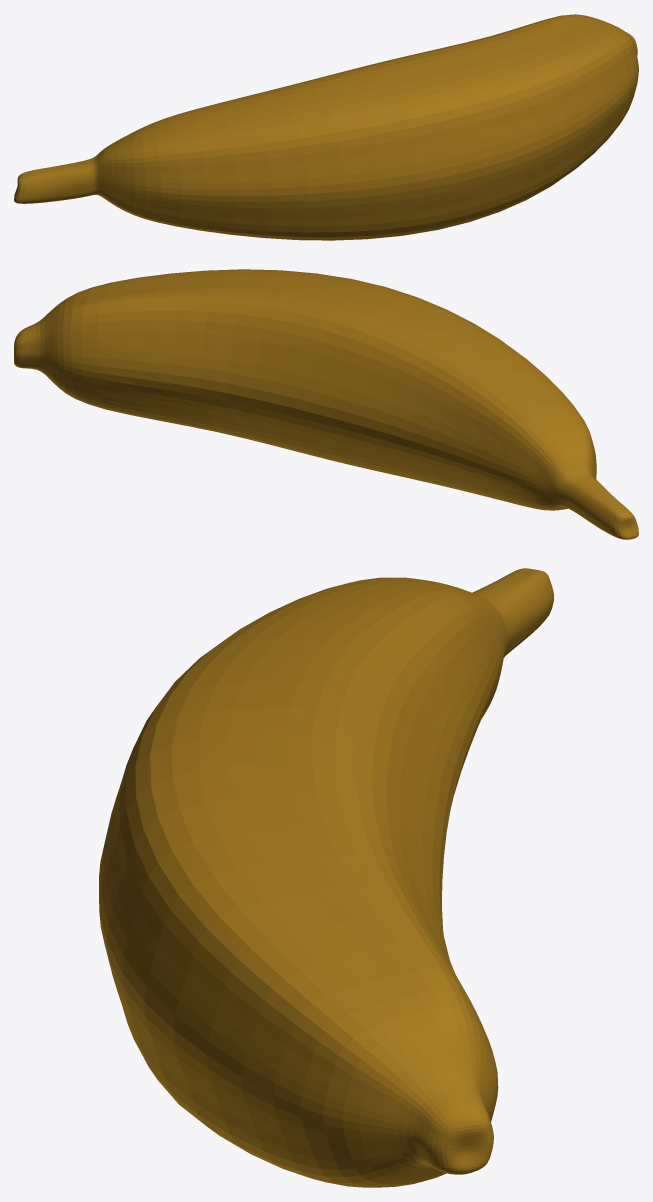
The model's file is Banana.obj.
The picture shows the model from 3 angles, top to bottom: view 1: azimuth 30°, elevation 25°; view 2: azimuth 150°, elevation 25°; view 3: azimuth 270°, elevation 25°; orthographic projection. The views are drawn at different scales.
Visible parts, largest first — view 1: Cube; view 2: Cube; view 3: Cube.
Boxes of the visible parts, x1=… form: Cube: x1=14, y1=14, x2=638, y2=240; Cube: x1=14, y1=269, x2=638, y2=539; Cube: x1=99, y1=568, x2=553, y2=1187.
Size of the model in its own units: 9.53 by 2.22 by 3.12.
